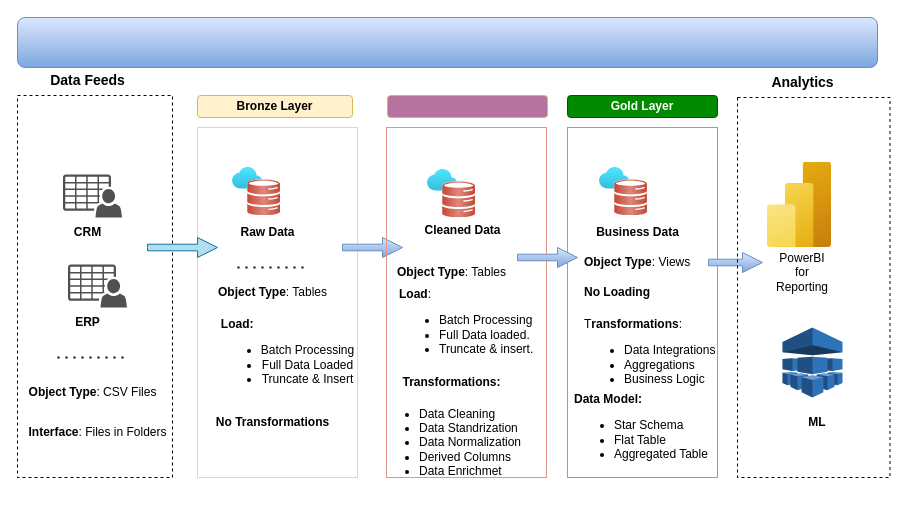
The diagram is 908 pixels wide and 515 high, and some of its shapes have lost their labels. Here are the shapes that lost their labels. From the top down, the centre of each, then its label:
At (x=447, y=42): "TECHNICAL ARCHITECTURE".
At (x=467, y=106): "Silver Layer".
